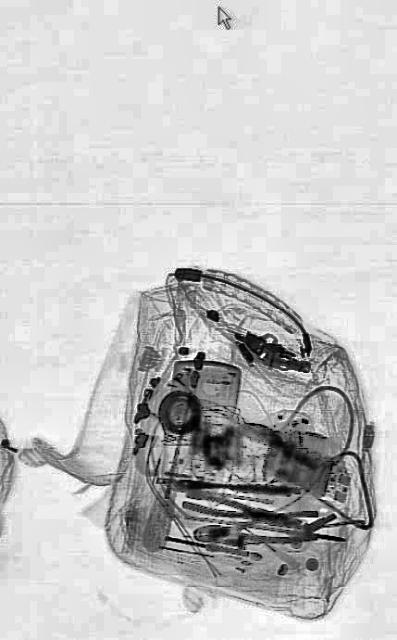Pliers: (182, 482, 302, 536), (194, 508, 320, 552)
